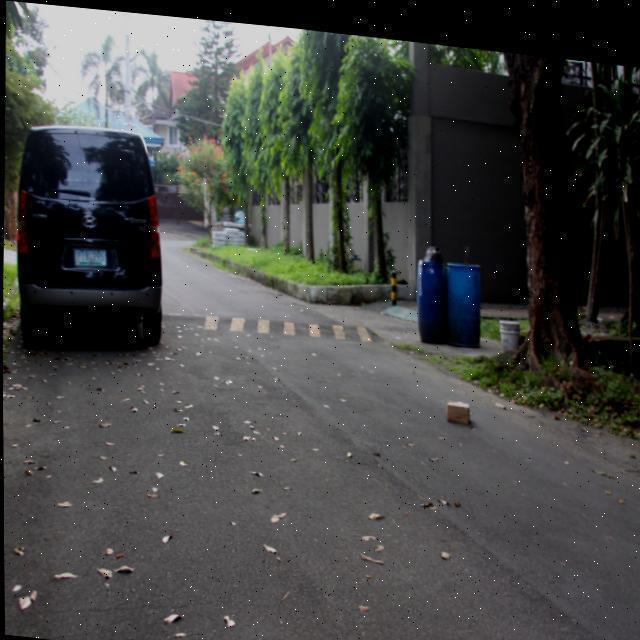Paper_Bag: (445, 390, 468, 416)
